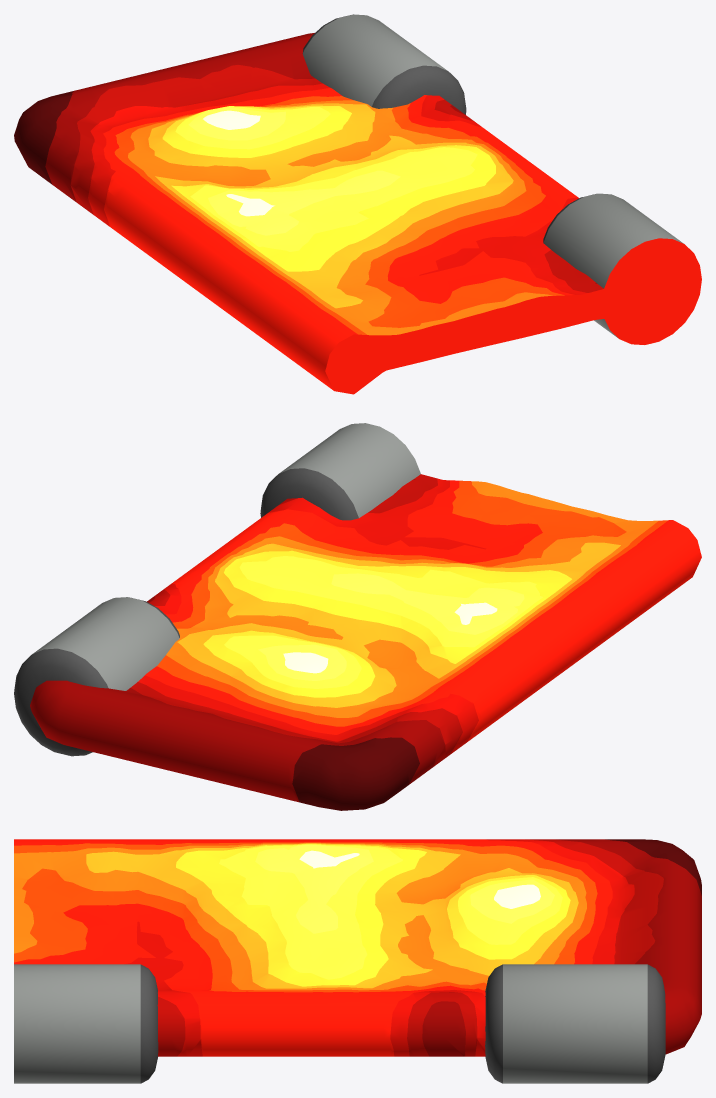
The model's file is fire_flap_1.glb.
The picture shows the model from 3 angles, top to bottom: view 1: azimuth 30°, elevation 25°; view 2: azimuth 150°, elevation 25°; view 3: azimuth 270°, elevation 25°; orthographic projection. The views are drawn at different scales.
Parts seen in each view (by area): view 1: flap.001, knuckle1.001, knuckle0.001; view 2: flap.001, knuckle0.001, knuckle1.001; view 3: flap.001, knuckle0.001, knuckle1.001.
Boxes of the visible parts, x1,y1,x2,y2 form: flap.001: [14, 33, 679, 394]; knuckle1.001: [543, 193, 701, 344]; knuckle0.001: [302, 14, 466, 114]; flap.001: [30, 474, 701, 810]; knuckle0.001: [14, 597, 179, 756]; knuckle1.001: [260, 423, 420, 520]; flap.001: [14, 839, 701, 1056]; knuckle0.001: [485, 964, 665, 1083]; knuckle1.001: [14, 964, 158, 1083].
Size of the model in its own units: 12.45 by 3.27 by 19.
